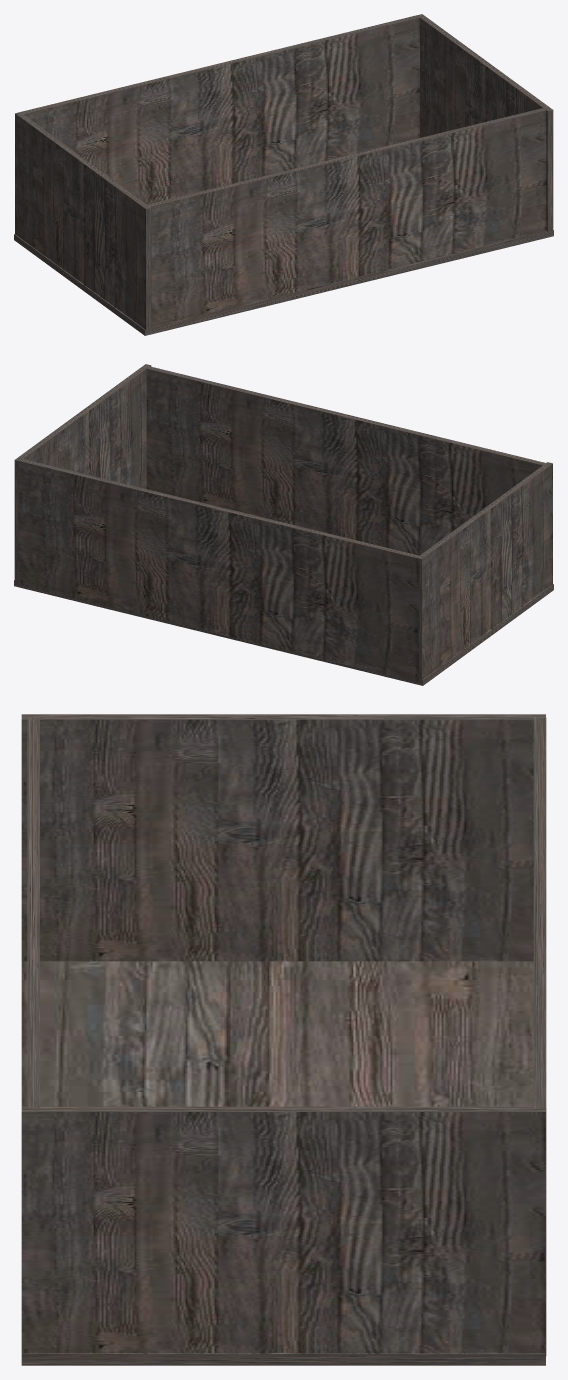
3 renders of one model, top to bottom at view 1: azimuth 30°, elevation 25°; view 2: azimuth 150°, elevation 25°; view 3: azimuth 270°, elevation 25°, orthographic. The views are drawn at different scales.
Bounding box in the file's own units: 21.8 × 6.44 × 12.1.
